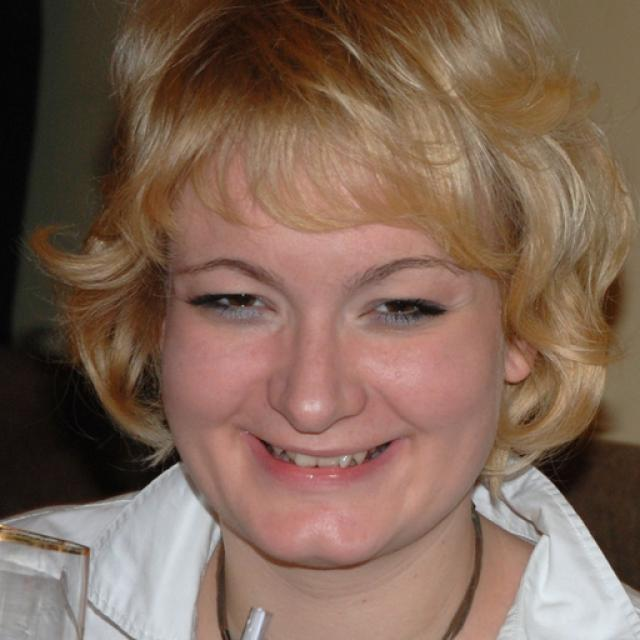happy: (160, 117, 504, 568)
